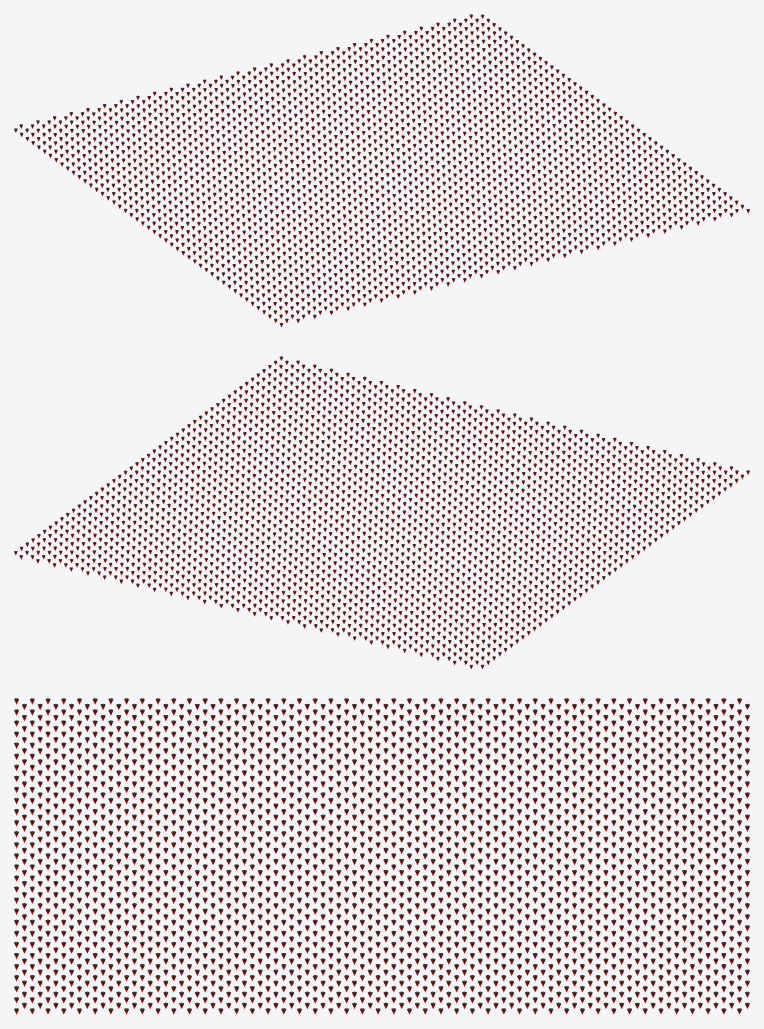
File: otherworld_floor_01_1.fbx
The picture shows the model from 3 angles, top to bottom: view 1: azimuth 30°, elevation 25°; view 2: azimuth 150°, elevation 25°; view 3: azimuth 270°, elevation 25°; orthographic projection. The views are drawn at different scales.
Visible parts, largest first — view 1: otherworld_floor_01_1; view 2: otherworld_floor_01_1; view 3: otherworld_floor_01_1.
Boxes of the visible parts, left/top/right/bottom form: otherworld_floor_01_1: left=14, top=14, right=749, bottom=326; otherworld_floor_01_1: left=14, top=356, right=749, bottom=669; otherworld_floor_01_1: left=14, top=698, right=749, bottom=1014.
Bounding box in the file's own units: 28.2 × 0.2295 × 28.1.
